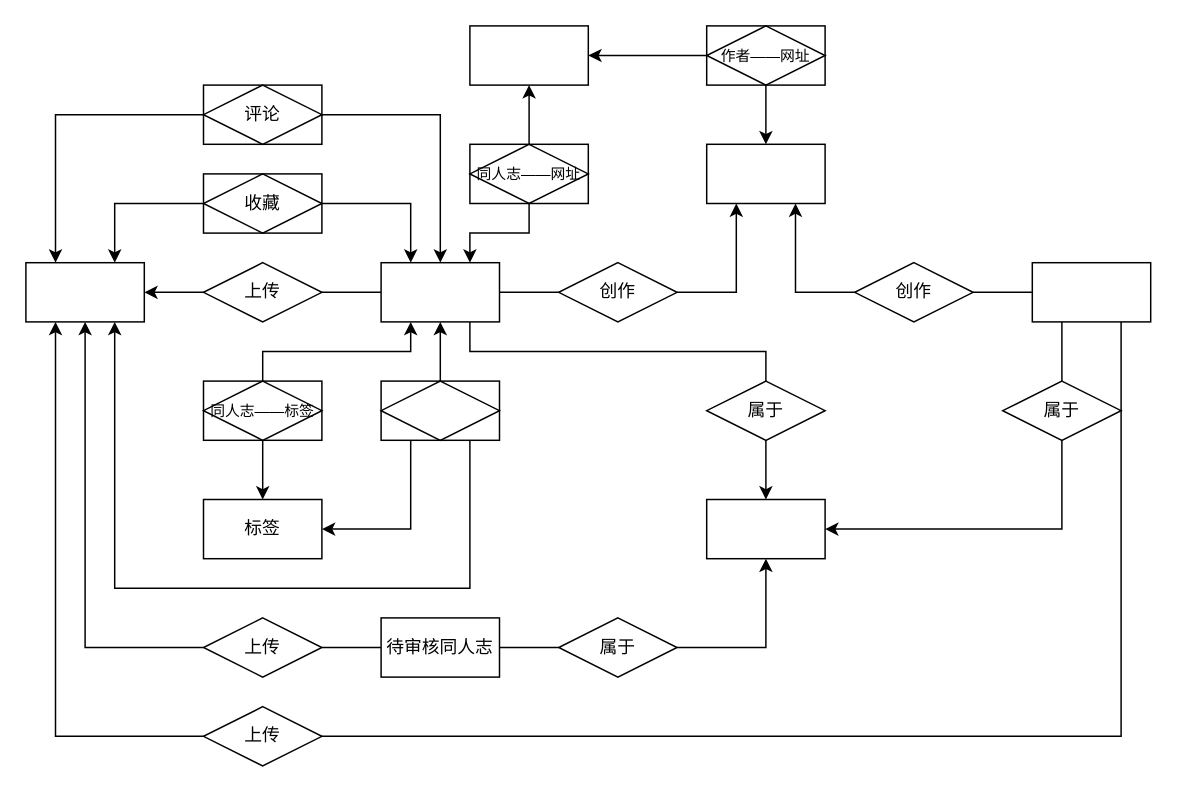
Some shapes in this 1177 by 792 pixel diagram are drawn without their labels. Each missing label, with the centre of its shape:
"作者" goes at point 765,173.
"同人志" goes at point 440,291.
"同人志——备份" goes at point 1091,291.
"平台" goes at point 528,54.
"标签操作记录" goes at point 440,410.
"用户" goes at point 84,291.
"类型" goes at point 765,528.
